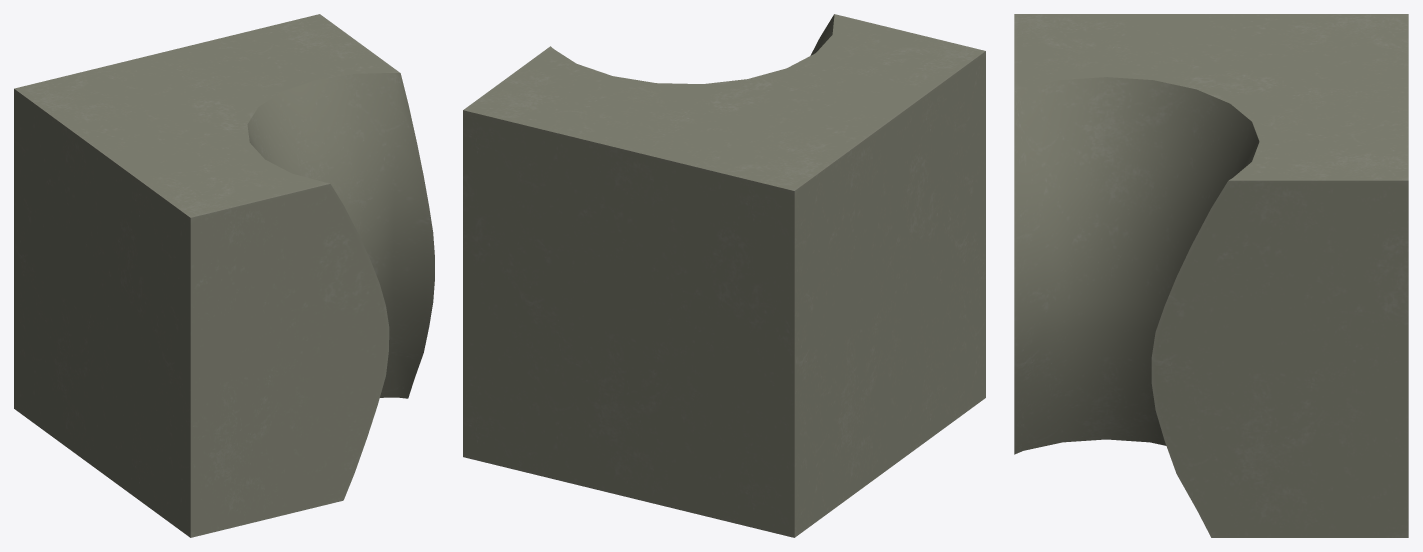
File: MuJu_FenMo.fbx
3 views of the same model, side by side, from view 1: azimuth 30°, elevation 25°; view 2: azimuth 150°, elevation 25°; view 3: azimuth 270°, elevation 25° (orthographic). The views are drawn at different scales.
Parts seen in each view (by area): view 1: MuJu_FenMo; view 2: MuJu_FenMo; view 3: MuJu_FenMo.
Part boxes in pixels (x1=…): MuJu_FenMo: x1=14, y1=14, x2=434, y2=537; MuJu_FenMo: x1=463, y1=14, x2=985, y2=537; MuJu_FenMo: x1=1014, y1=14, x2=1408, y2=537.
Size of the model in its own units: 15 by 15 by 15.
1 material, 1 textured.
